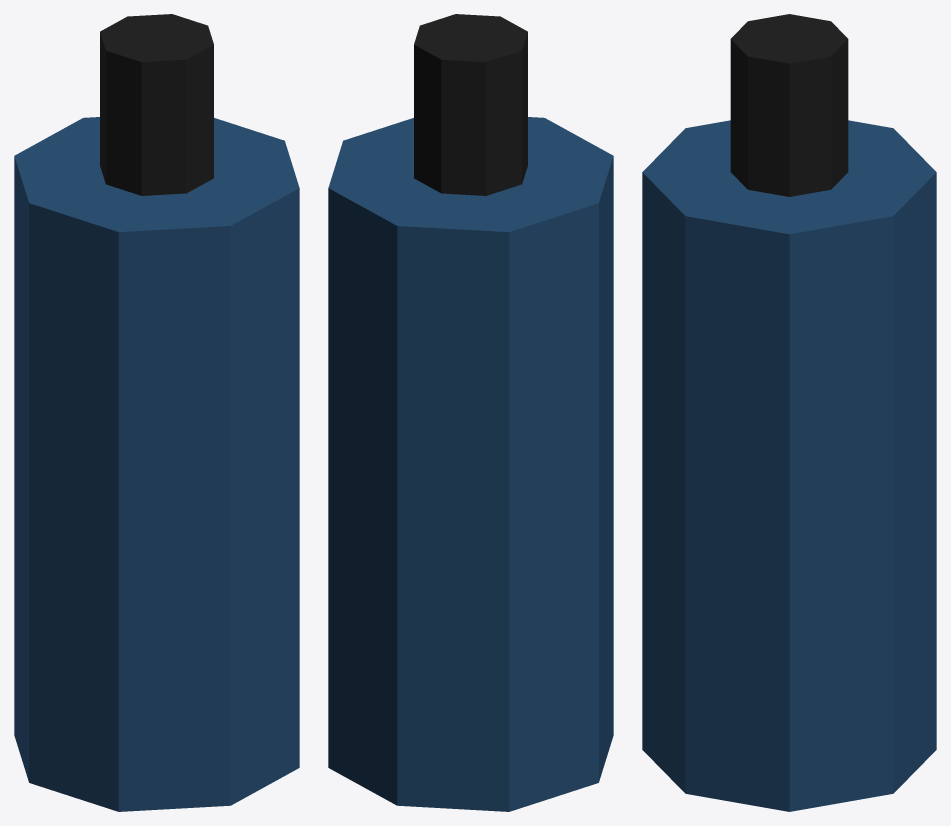
File: g_emp.glb
3 renders of one model, left to right at view 1: azimuth 30°, elevation 25°; view 2: azimuth 150°, elevation 25°; view 3: azimuth 270°, elevation 25°, orthographic.
Parts seen in each view (by area): view 1: body; view 2: body; view 3: body.
Part boxes in pixels (x1=…): body: x1=14, y1=14, x2=299, y2=811; body: x1=328, y1=14, x2=613, y2=811; body: x1=642, y1=14, x2=936, y2=811.
Bounding box in the file's own units: 0.06 × 0.16 × 0.06.
